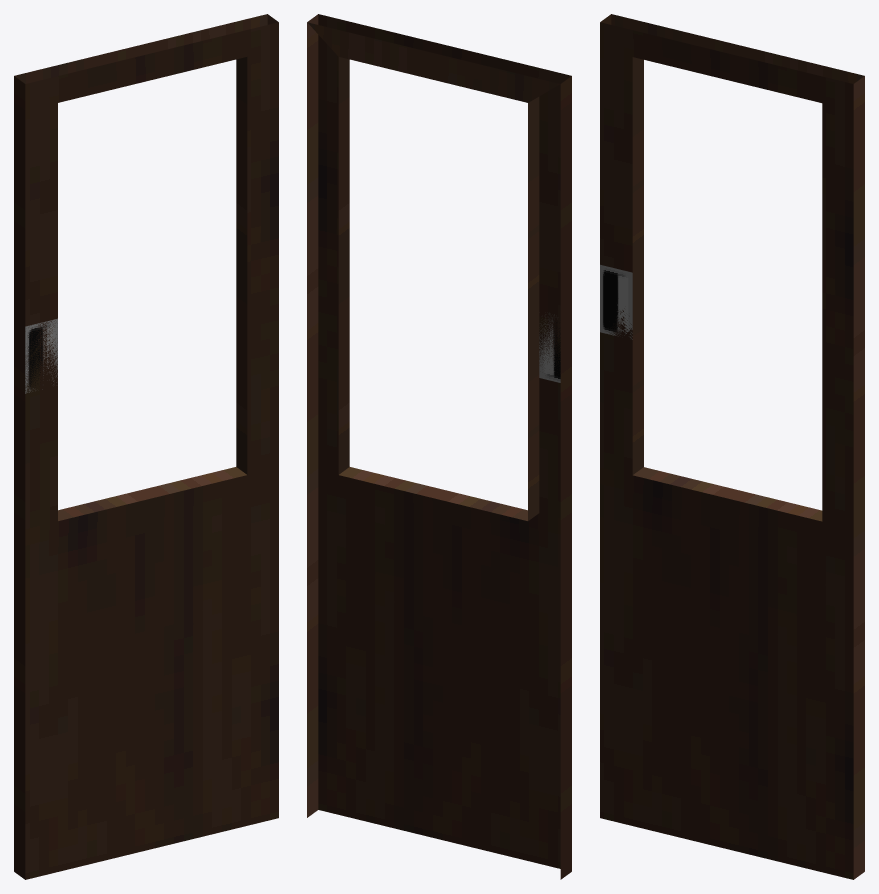
File: primary_129.glb
The picture shows the model from 3 angles, left to right: view 1: azimuth 30°, elevation 25°; view 2: azimuth 150°, elevation 25°; view 3: azimuth 330°, elevation 25°; orthographic projection.
Visible parts, largest first — view 1: Object; view 2: Object; view 3: Object.
Boxes of the visible parts, x1,y1,x2,y2 form: Object: [14, 14, 278, 879]; Object: [307, 14, 571, 879]; Object: [600, 14, 864, 879].
Size of the model in its own units: 0.979 by 2.94 by 0.0753.
10 materials, 10 textured.
